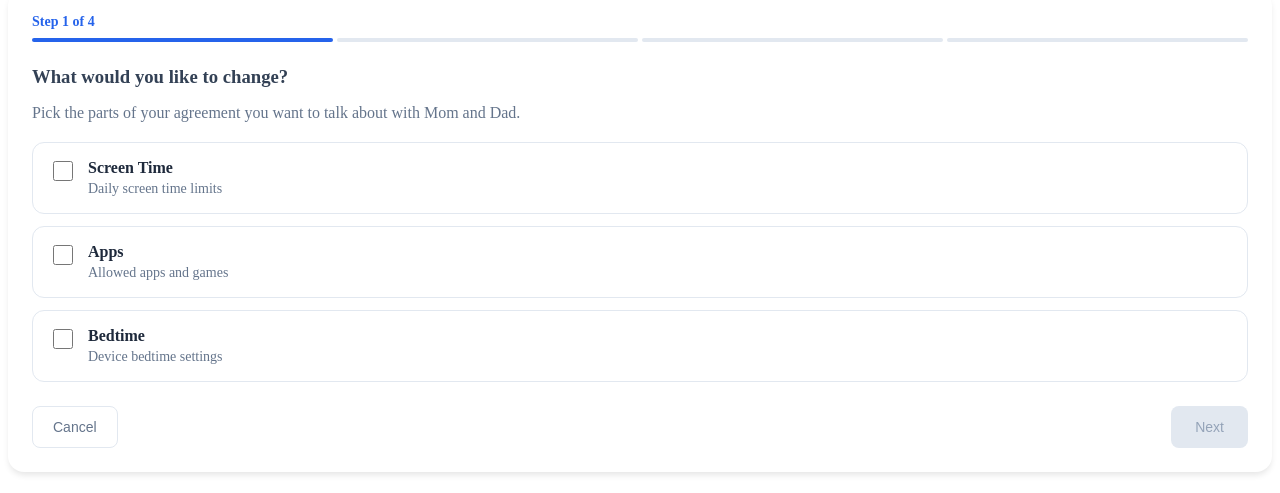
Test: ChildAgreementProposalWizard - Story 34.2 › step navigation › should enable next button when section is selected
The image size is (1280, 493).
Click the checkbox labelled "Screen Time Daily screen time limits" at (63, 171), box [53, 161, 73, 181]
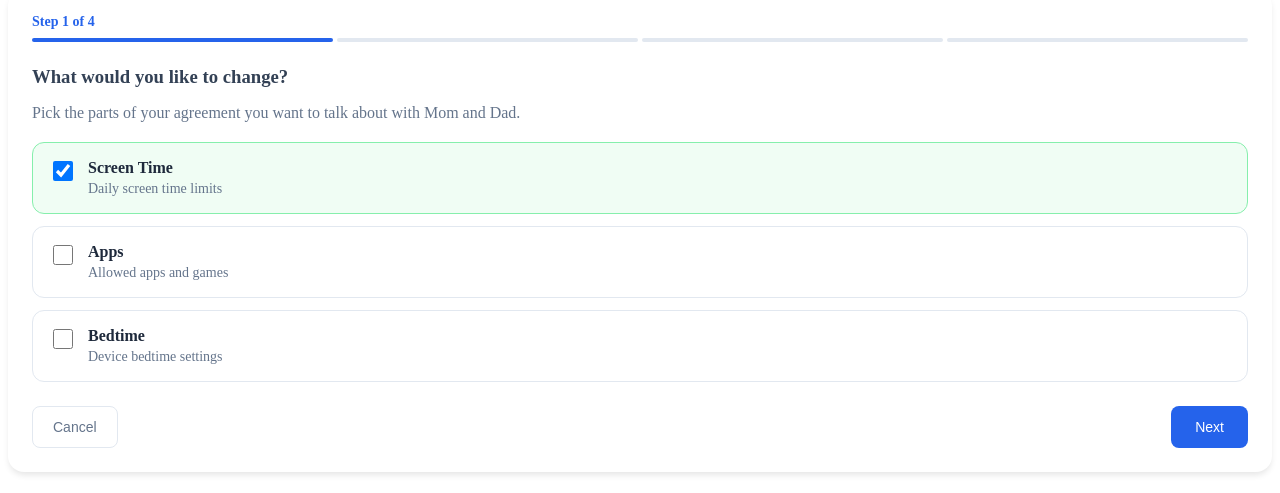
Expected: the button "Next" is enabled, [1171, 406, 1248, 448]
